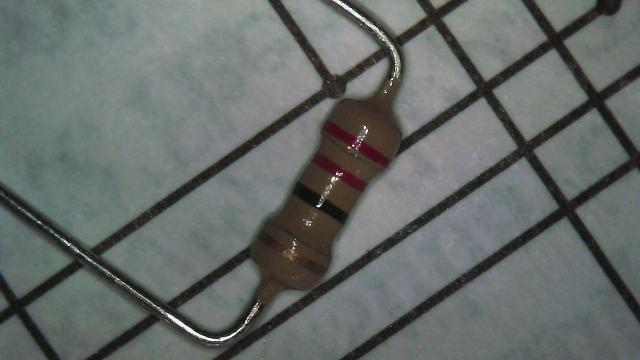black: (290, 181, 348, 224)
gold: (256, 226, 327, 274)
orange: (314, 153, 367, 192)
red: (324, 120, 391, 166)
resistor: (216, 67, 448, 326)
